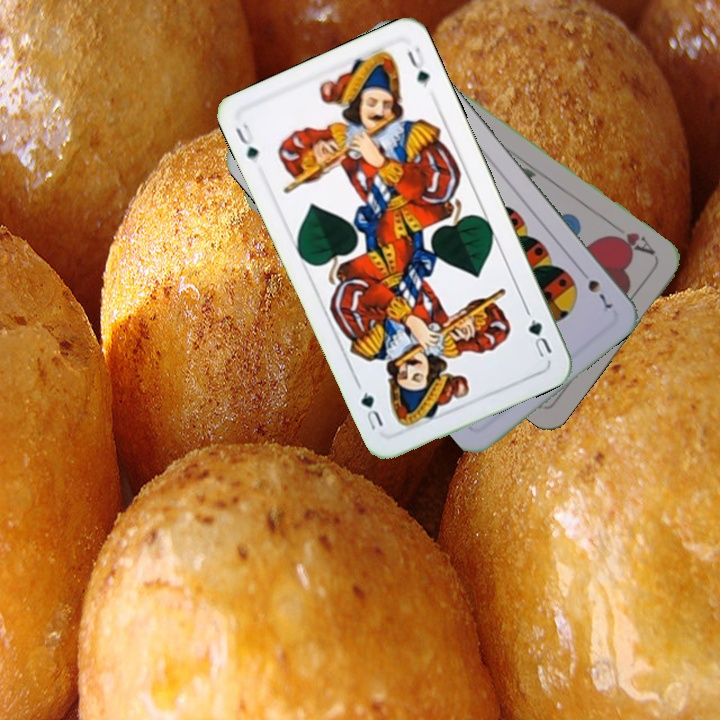GU: (524, 315, 555, 360), (231, 119, 261, 163)
HA: (605, 219, 658, 258)
S7: (575, 264, 615, 311)
